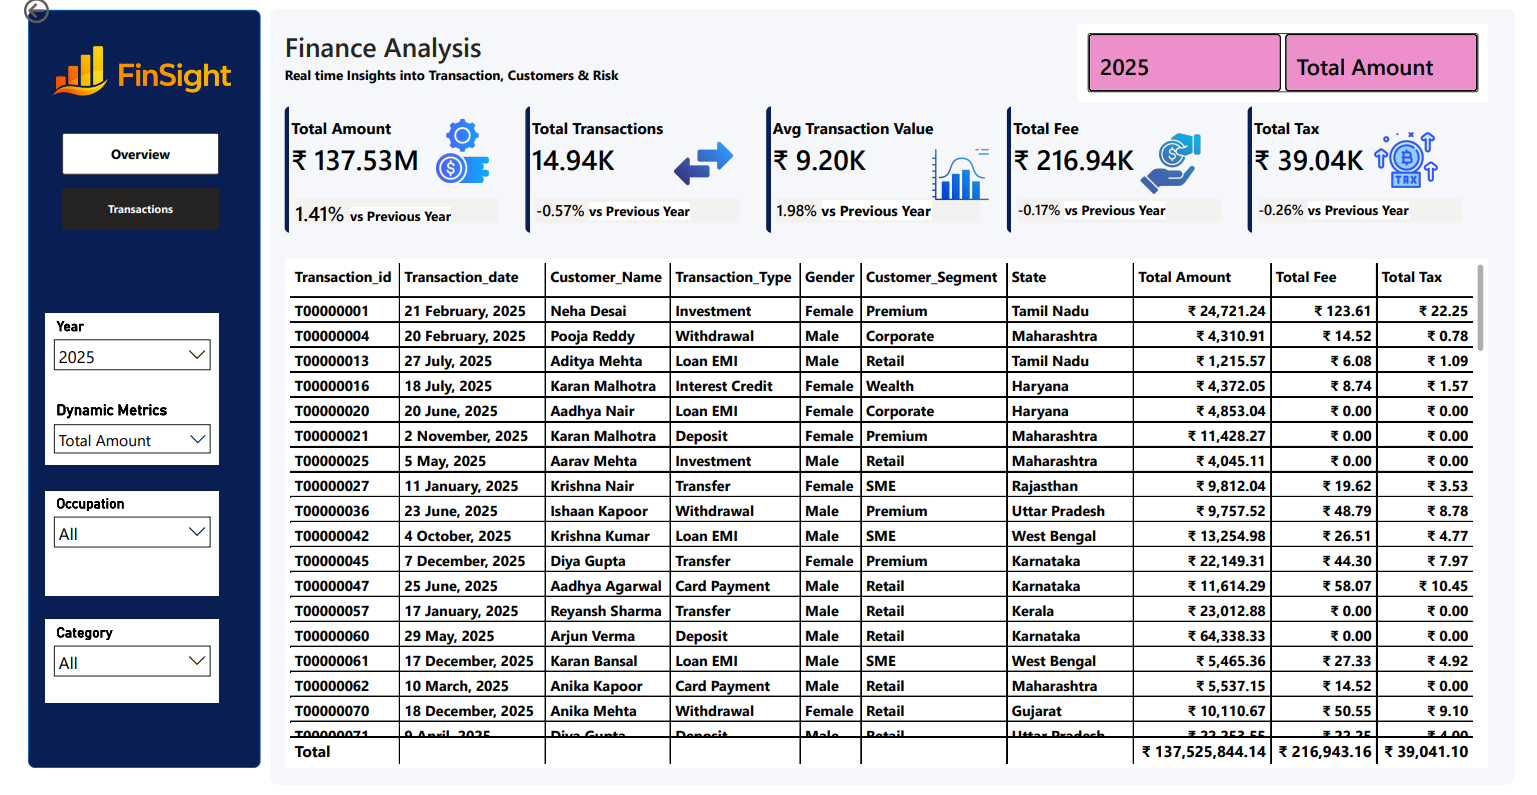

The dashboard page shown, as its layout file describes it:
{"tool":"powerbi","page":{"name":"Transactions","canvas":[1800,950],"ordinal":1},"visuals":[{"type":"shape","box":[9.6,19.3,279.8,910.8],"z":0},{"type":"shape","box":[300.9,18,1492.9,932.1],"z":1000},{"type":"image","box":[31.1,31.1,235.5,124.3],"z":2000},{"type":"cardVisual","fields":{"Data":["finance_transactions.Dashboard Title"]},"box":[300.9,19.6,456.2,109.6],"z":3000},{"type":"cardVisual","fields":{"Data":["finance_transactions.Total Amount","finance_transactions.Total Transactions","finance_transactions.Avg Transaction Value","finance_transactions.Total Fee","finance_transactions.Total Tax"]},"box":[300.9,117.7,1461.9,186.4],"z":4000},{"type":"image","box":[493.8,129.2,75.2,117.7],"z":5000},{"type":"image","box":[783.3,143.9,75.2,117.7],"z":6000},{"type":"image","box":[1093.9,150.4,70.3,132.4],"z":7000},{"type":"image","box":[1344.1,143.9,75.2,117.7],"z":8000},{"type":"image","box":[1618.8,150.4,89.9,96.5],"z":9000},{"type":"cardVisual","fields":{"Data":["finance_transactions.Selected Year Title","finance_transactions.Selected Dynamic Measuree"]},"box":[1270.5,36,492.2,93.2],"z":10000},{"type":"tableEx","fields":{"Values":["finance_transactions.transaction_id","finance_transactions.transaction_date","customers.customer_name","finance_transactions.transaction_type","customers.gender","customers.customer_segment","customers.state","finance_transactions.Total Amount","finance_transactions.Total Fee","finance_transactions.Total Tax"]},"box":[318.9,318.9,1443.9,611.6],"z":11000},{"type":"actionButton","box":[0,0,100,40],"z":12000},{"type":"pageNavigator","box":[50.7,166.8,188,116.1],"z":13000},{"type":"slicer","fields":{"Values":["Calendar Table.Year"]},"box":[31.1,384.3,207.7,99.7],"z":14000},{"type":"slicer","fields":{"Values":["customers.occupation"]},"box":[31.1,596.8,207.7,125.9],"z":15000},{"type":"slicer","fields":{"Values":["Dynamic Metrics.Dynamic Metrics"]},"box":[31.1,484,207.7,81.8],"z":16000},{"type":"slicer","fields":{"Values":["finance_transactions.merchant_category"]},"box":[31.1,752.2,207.7,99.7],"z":17000}]}

Visuals, with their boxes on the page's 1800x950 design canvas (x1, y1, x2, y2). These are canvas units, not pixel positions in the 1537x795 screenshot, which may show the page scaled, cropped or inside an application window:
shape: box(10, 19, 289, 930)
shape: box(301, 18, 1794, 950)
image: box(31, 31, 267, 155)
cardVisual - finance_transactions.Dashboard Title: box(301, 20, 757, 129)
cardVisual - finance_transactions.Total Amount x finance_transactions.Total Transactions: box(301, 118, 1763, 304)
image: box(494, 129, 569, 247)
image: box(783, 144, 858, 262)
image: box(1094, 150, 1164, 283)
image: box(1344, 144, 1419, 262)
image: box(1619, 150, 1709, 247)
cardVisual - finance_transactions.Selected Year Title x finance_transactions.Selected Dynamic Measuree: box(1270, 36, 1763, 129)
tableEx - finance_transactions.transaction_id x finance_transactions.transaction_date: box(319, 319, 1763, 930)
actionButton: box(0, 0, 100, 40)
pageNavigator: box(51, 167, 239, 283)
slicer - Calendar Table.Year: box(31, 384, 239, 484)
slicer - customers.occupation: box(31, 597, 239, 723)
slicer - Dynamic Metrics.Dynamic Metrics: box(31, 484, 239, 566)
slicer - finance_transactions.merchant_category: box(31, 752, 239, 852)
